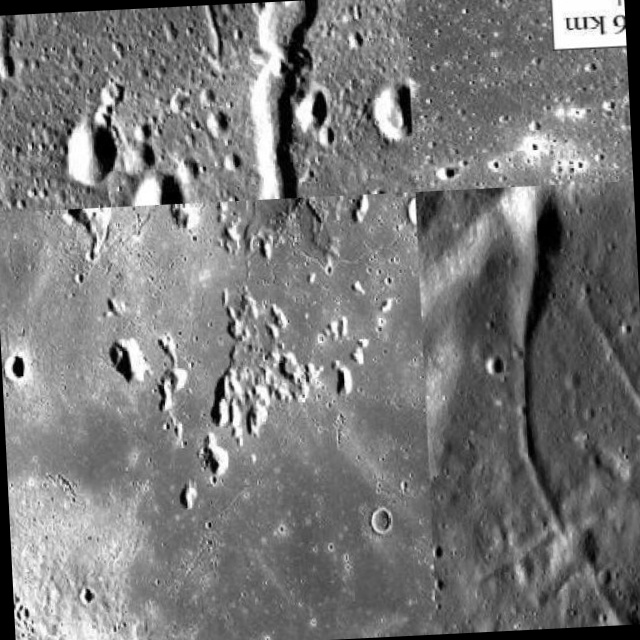crater: (0, 229, 420, 540), (511, 197, 638, 638), (422, 31, 638, 195), (258, 0, 409, 195), (0, 0, 240, 66)
